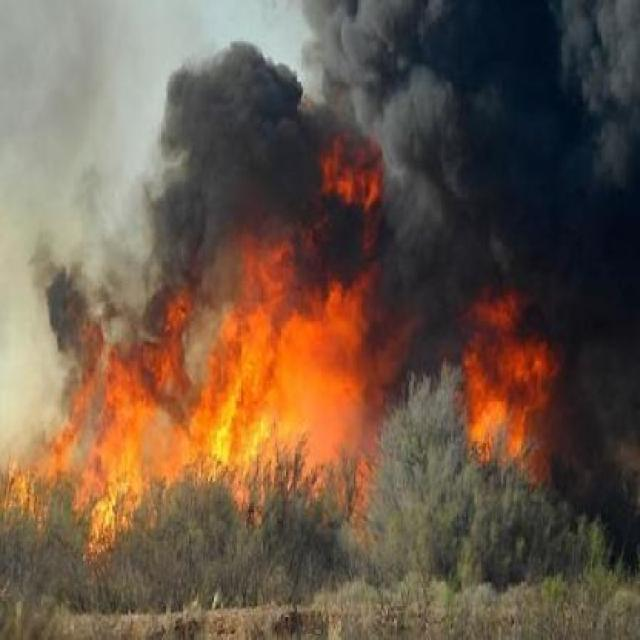Fire: (144, 236, 392, 529), (4, 358, 140, 546), (475, 274, 548, 466), (317, 131, 383, 217)
Smoke: (294, 0, 640, 251), (2, 4, 133, 408), (142, 41, 300, 286), (538, 264, 640, 542), (384, 269, 478, 377)
